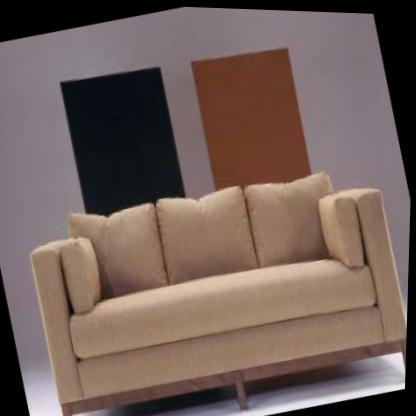Sofa: (18, 141, 413, 416)
